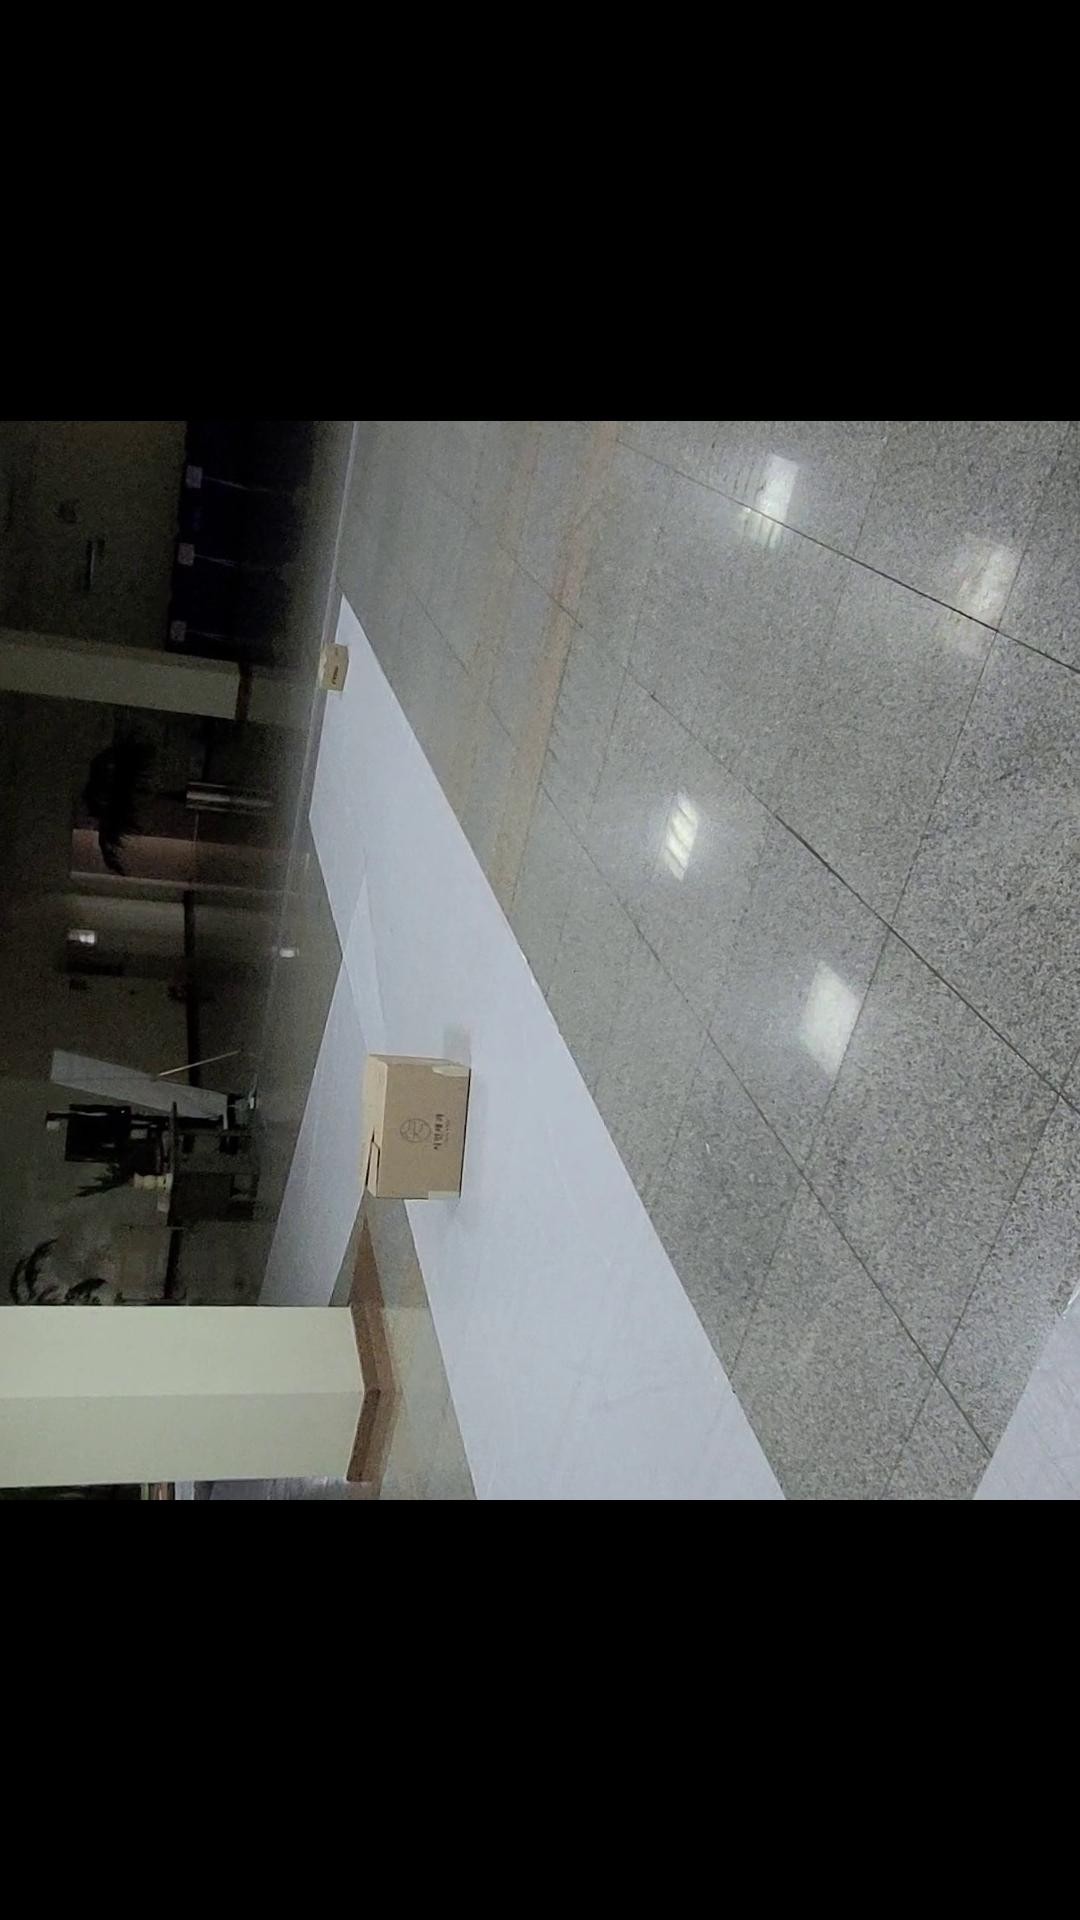Box: (324, 1022, 502, 1209), (293, 621, 368, 712)
